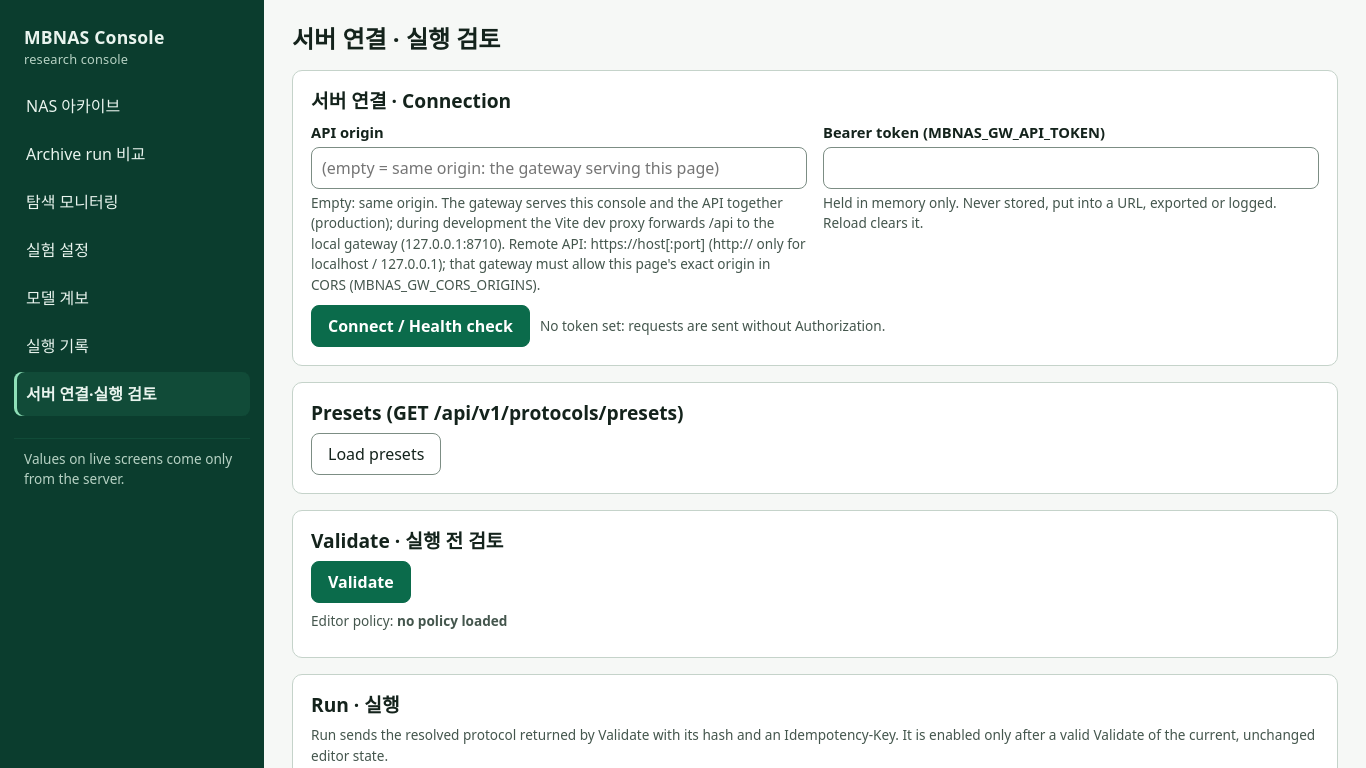
Test: connect -> presets -> DEFAULT_BASELINE14 › a presets failure does not fail the connection: the editor stays empty and Settings says why
This screenshot has width=1366, height=768.
Click the button with test id "nav-server". click: (132, 394)
box: [14,372,250,416]
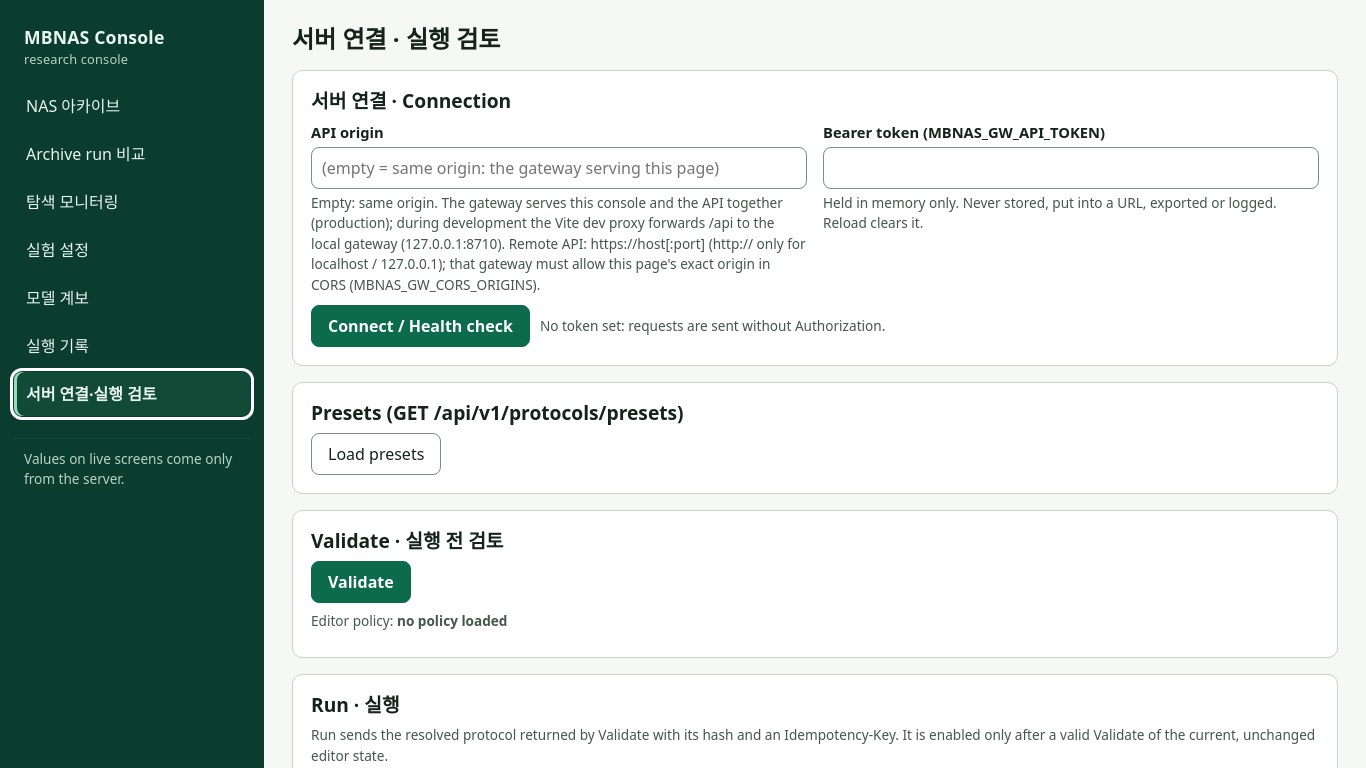
Type "TEST-TOKEN" into the password field labelled "Bearer token (MBNAS_GW_API_TOKEN)". click: (1071, 168)
box: [823,147,1319,189]
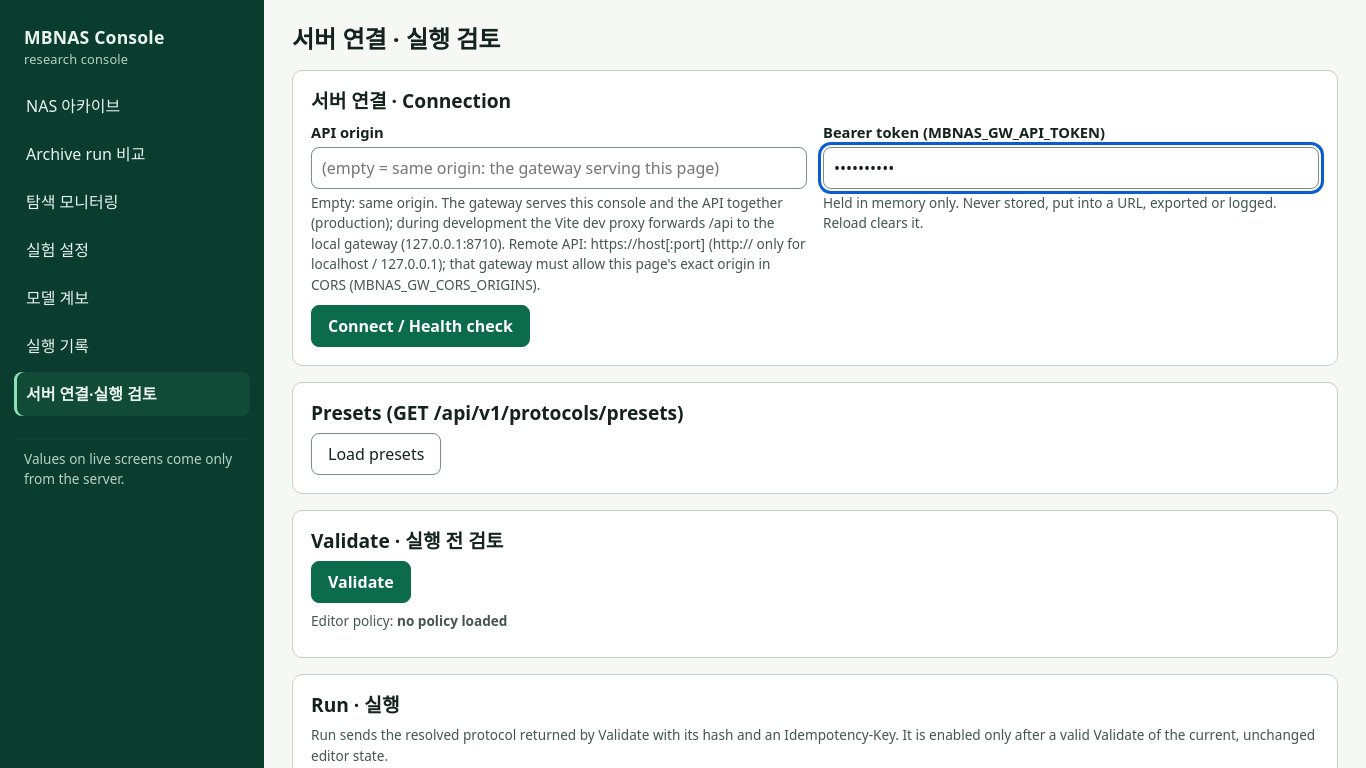
Click the button with test id "connect-btn". click: (420, 326)
box: [311,305,530,347]
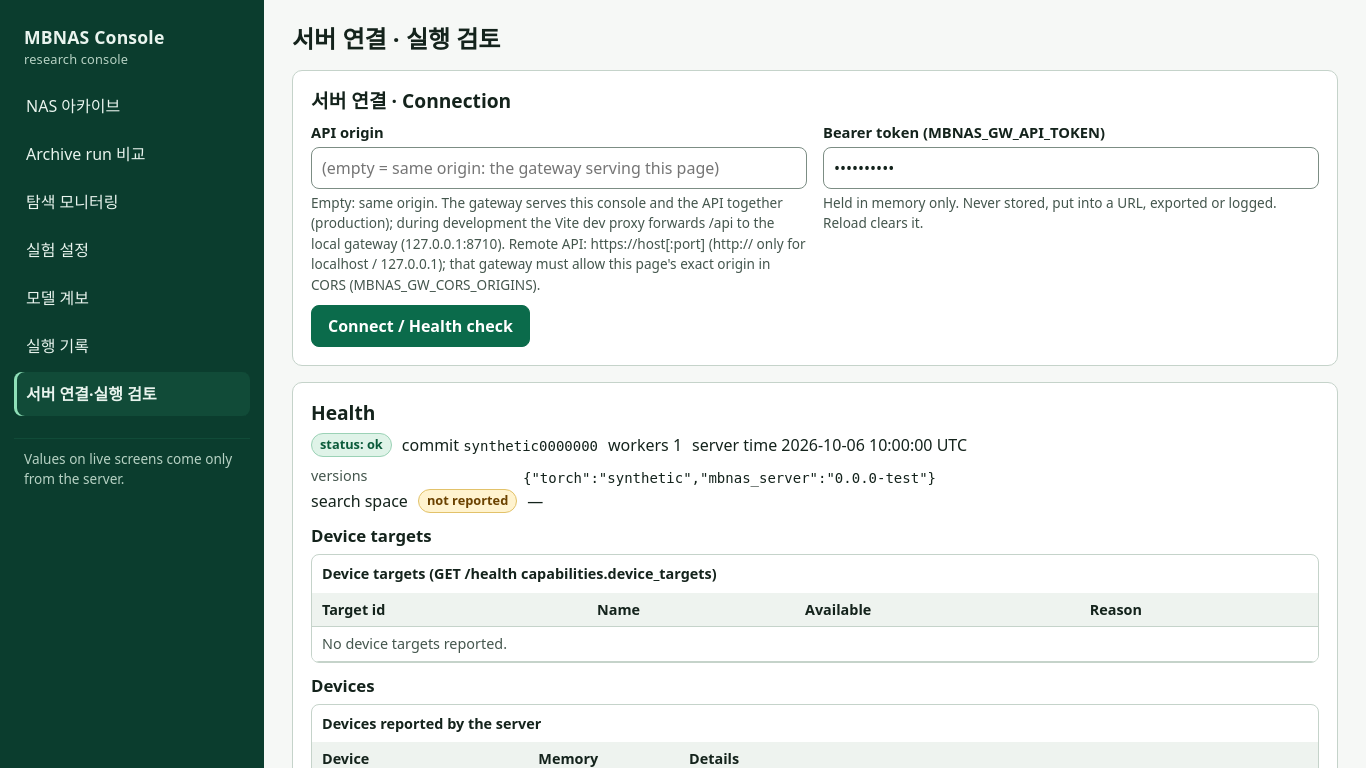
Now the text "status: ok" is shown, box [311,433,392,457]
Click the button with test id "nav-settings". click: (132, 250)
box: [14,228,250,272]
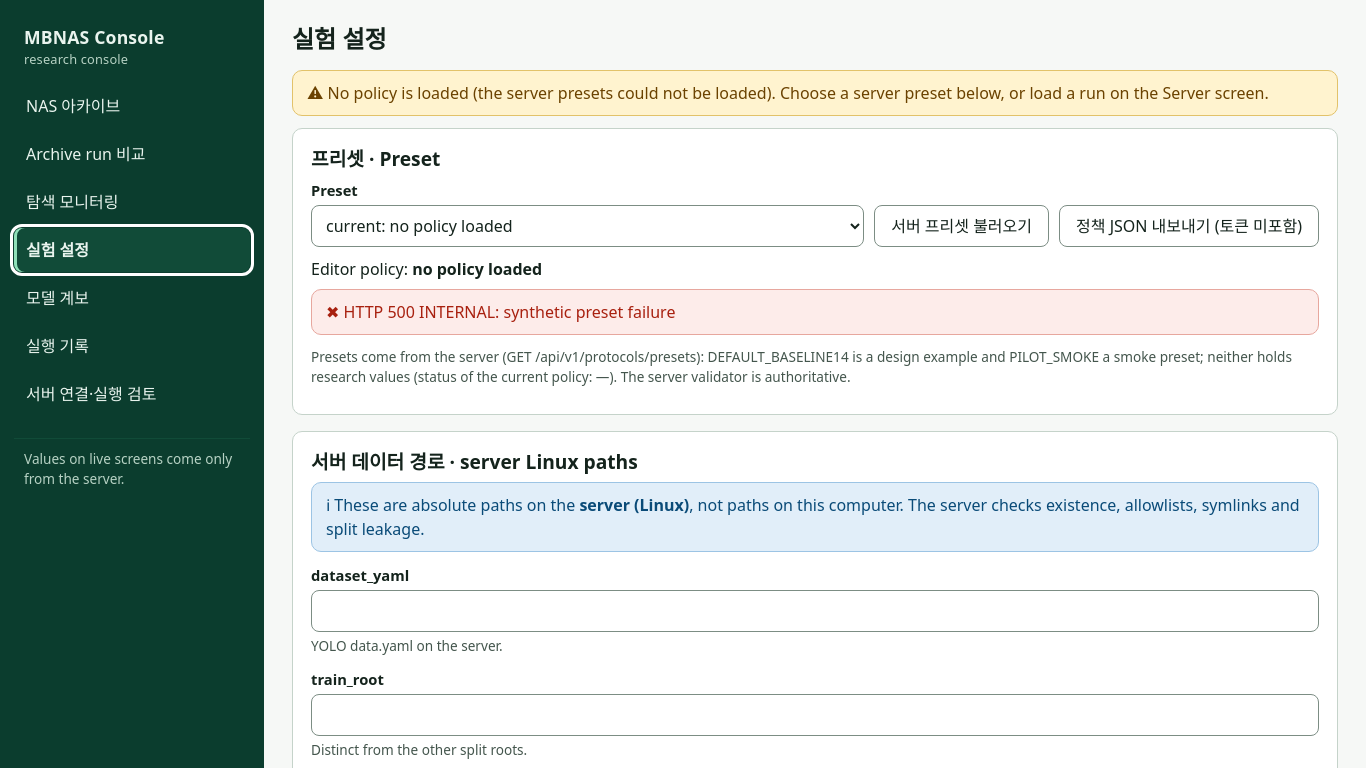
Now the text with test id "settings-empty-banner" shows "the server presets could not be loaded", box [469,82,772,104]
